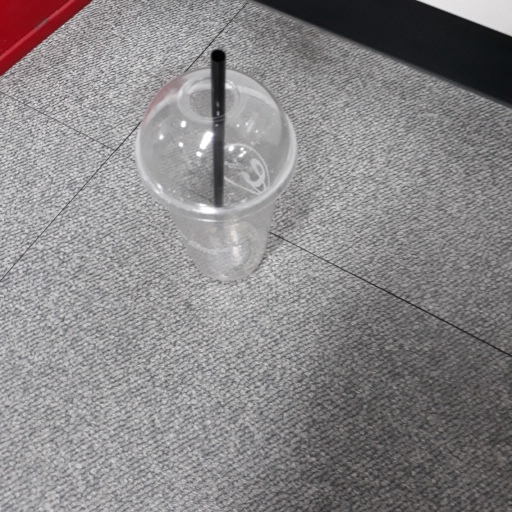Plastic_2: (133, 51, 300, 285)
